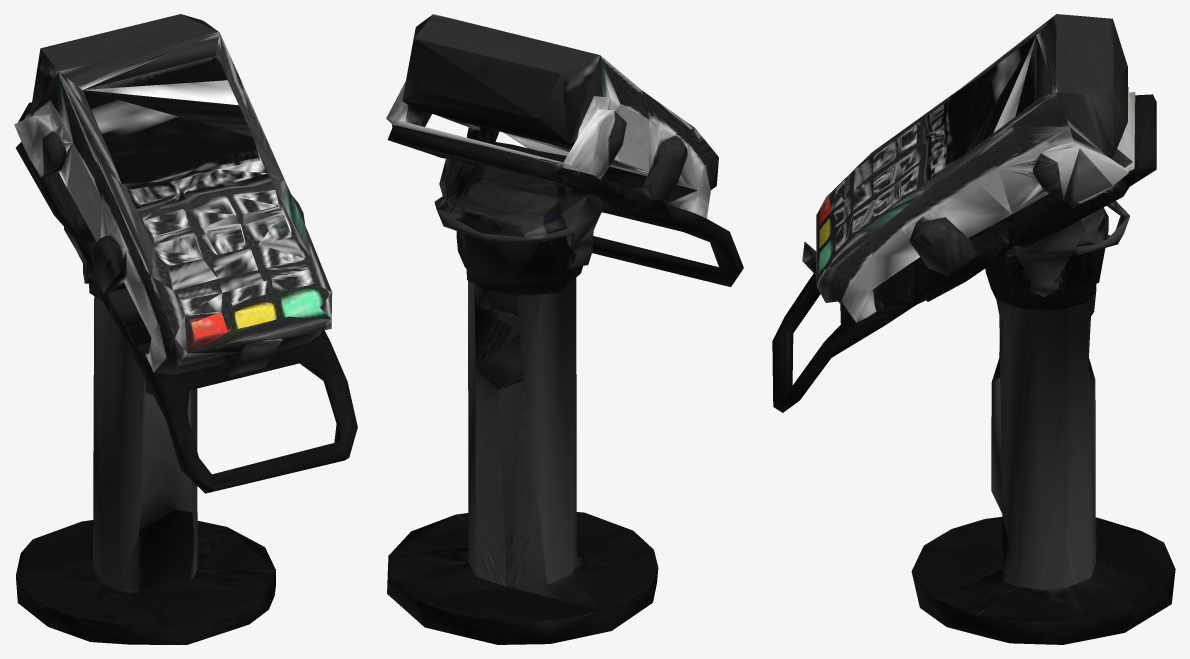
The model's file is pos.glb.
3 renders of one model, left to right at view 1: azimuth 30°, elevation 25°; view 2: azimuth 150°, elevation 25°; view 3: azimuth 270°, elevation 25°, orthographic. The views are drawn at different scales.
Visible parts, largest first — view 1: Mesh_0; view 2: Mesh_0; view 3: Mesh_0.
Part boxes in pixels (left/top/right/bottom): Mesh_0: left=14, top=14, right=357, bottom=644; Mesh_0: left=386, top=14, right=743, bottom=644; Mesh_0: left=772, top=14, right=1175, bottom=644.
Bounding box in the file's own units: 0.1329 × 0.3 × 0.204.
Materials: 1 (1 with a texture image).
